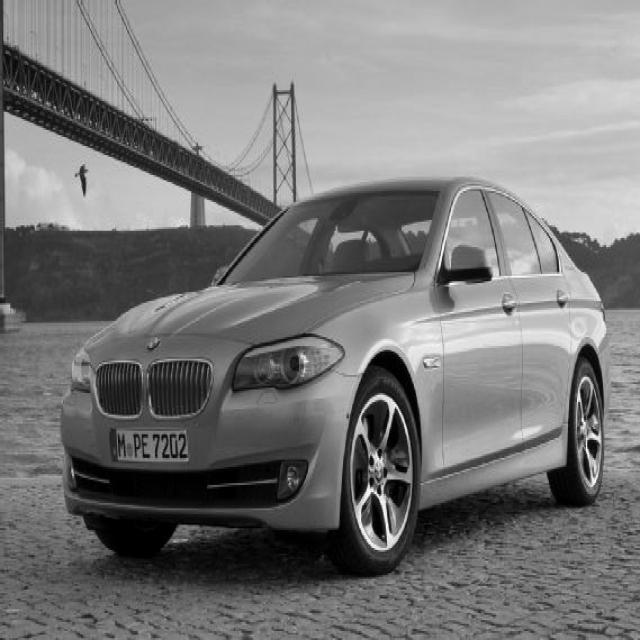car: (58, 173, 611, 577)
plat_license: (115, 427, 189, 462)
